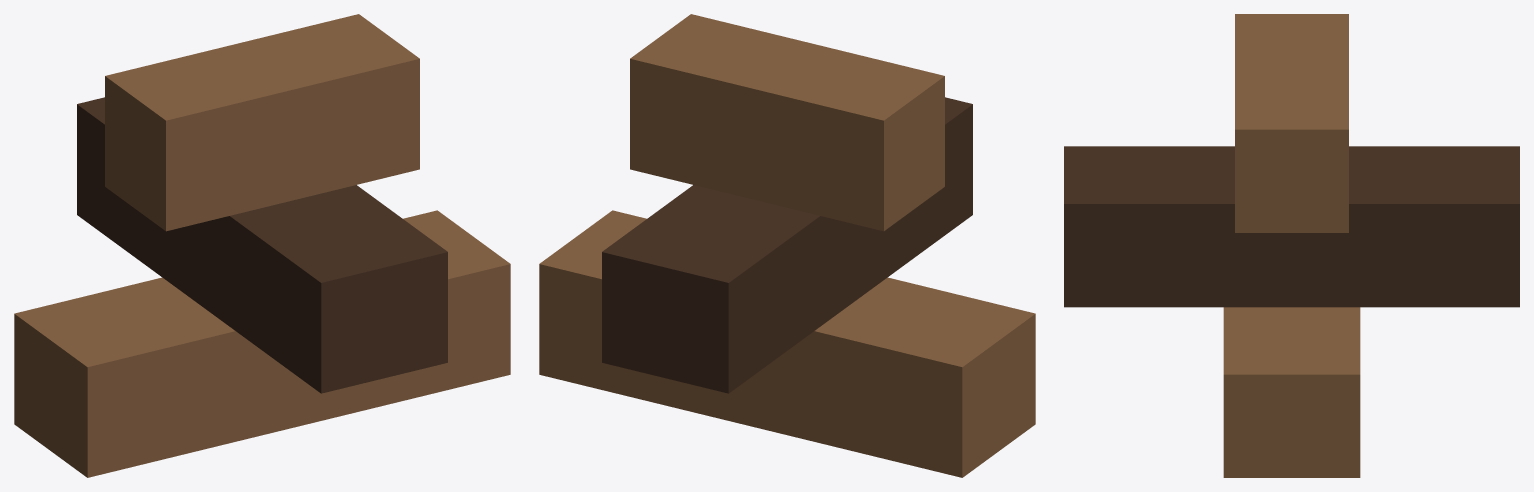
Rendered from pickup_wood_scrap.glb.
The picture shows the model from 3 angles, left to right: view 1: azimuth 30°, elevation 25°; view 2: azimuth 150°, elevation 25°; view 3: azimuth 270°, elevation 25°; orthographic projection. The views are drawn at different scales.
Visible parts, largest first — view 1: PICKUP_WoodScrap; view 2: PICKUP_WoodScrap; view 3: PICKUP_WoodScrap.
Part boxes in pixels (<box>): PICKUP_WoodScrap: <box>14,14,510,477</box>; PICKUP_WoodScrap: <box>539,14,1035,477</box>; PICKUP_WoodScrap: <box>1064,14,1519,477</box>.
Size of the model in its own units: 0.2 by 0.15 by 0.2.
